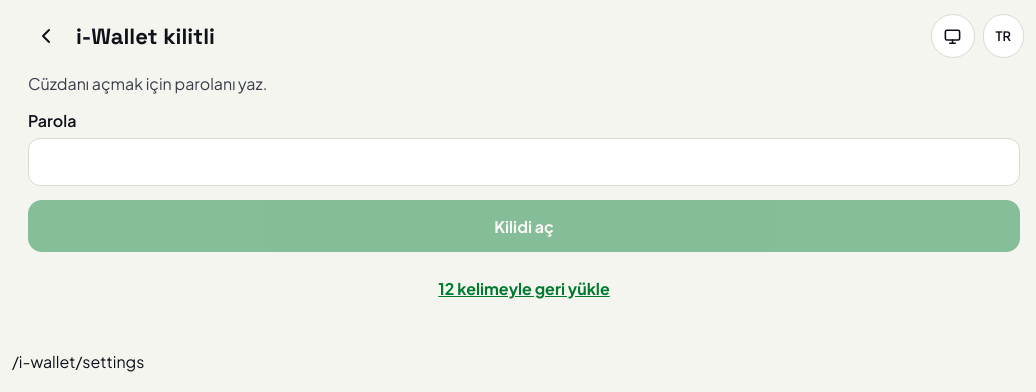
i-Wallet settings › lock returns to the unlock form
Type "right-pass1" into the password field labelled "Parola" at (524, 162), box [28,138,1020,186]
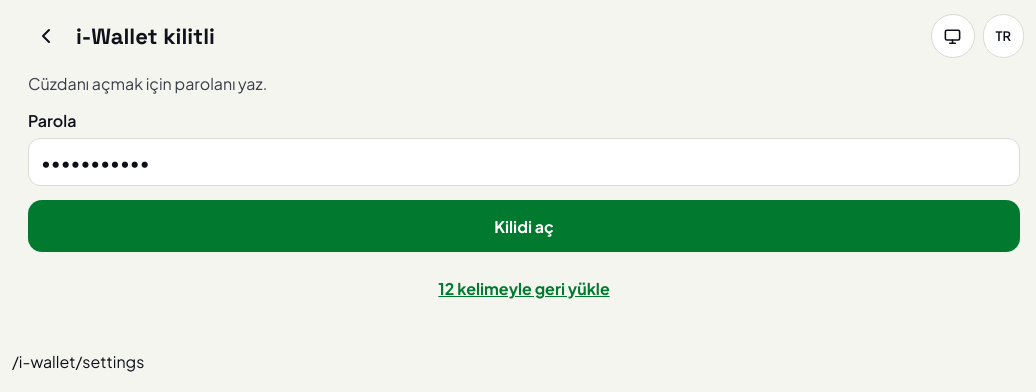
Click the button "Kilidi aç" at (524, 226), box [28,200,1020,252]
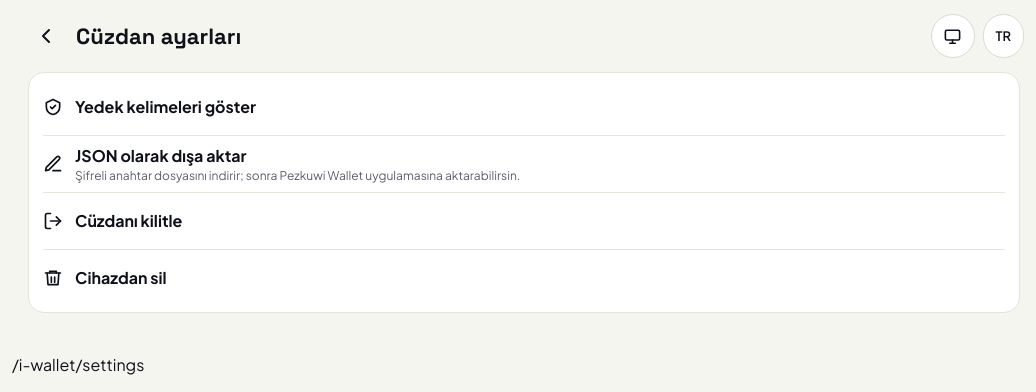
Click the button "Cüzdanı kilitle" at (129, 221), box [43,193,1005,249]
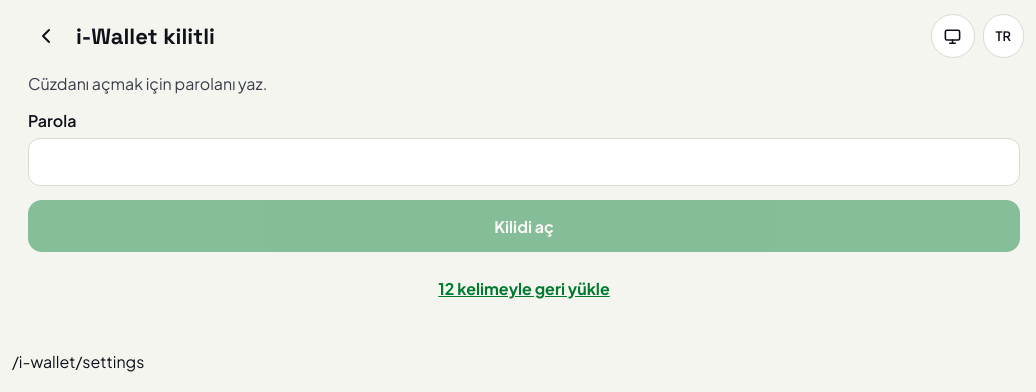
Check: the password field labelled "Parola" is shown, box [28,138,1020,186]
